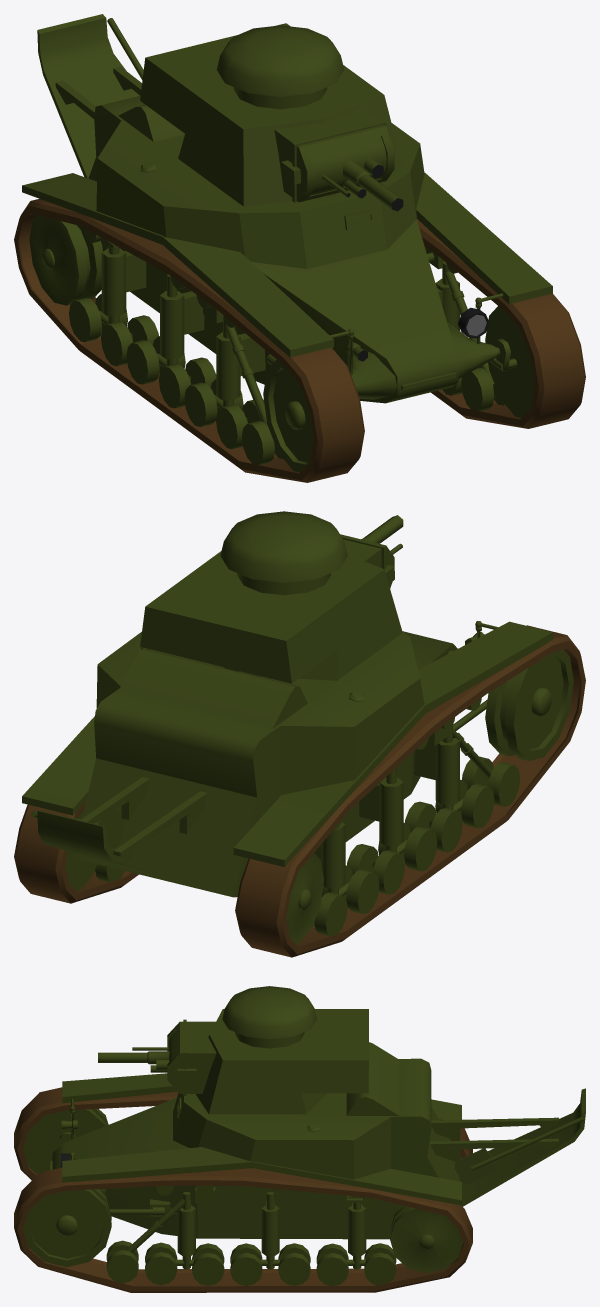
3 renders of one model, top to bottom at view 1: azimuth 30°, elevation 25°; view 2: azimuth 150°, elevation 25°; view 3: azimuth 270°, elevation 25°, orthographic. The views are drawn at different scales.
Visible parts, largest first — view 1: Body_UV.004, Tower_UV.001, RightTrack_Circle.015, LeftTrack_Circle.001, RightWheel9_Circle.000, Gun_UV.008, RightWheel1_Circle.023, LeftWheel1_Circle.002, RightWheel5_Circle.019, RightWheel7_Circle.021, RightWheel6_Circle.020, RightWheel8_Circle.022 (+4 smaller); view 2: Body_UV.004, Tower_UV.001, RightTrack_Circle.015, RightWheel1_Circle.023, LeftTrack_Circle.001, RightWheel9_Circle.000, RightWheel6_Circle.020, RightWheel4_Circle.018, RightWheel2_Circle.016, RightWheel3_Circle.017, RightWheel5_Circle.019, RightWheel7_Circle.021 (+3 smaller); view 3: Body_UV.004, Tower_UV.001, LeftTrack_Circle.001, LeftWheel1_Circle.002, LeftWheel9_Circle.010, RightTrack_Circle.015, RightWheel1_Circle.023, Gun_UV.008, LeftWheel6_Circle.007, LeftWheel5_Circle.006, LeftWheel3_Circle.004, LeftWheel7_Circle.008 (+3 smaller).
Boxes of the visible parts, box(x1,y1,x2,y2) form: Body_UV.004: box(22, 14, 552, 425); Tower_UV.001: box(140, 23, 402, 206); RightTrack_Circle.015: box(14, 199, 364, 482); LeftTrack_Circle.001: box(416, 219, 585, 428); RightWheel9_Circle.000: box(29, 215, 102, 305); Gun_UV.008: box(309, 136, 403, 211); RightWheel1_Circle.023: box(263, 359, 313, 472); LeftWheel1_Circle.002: box(485, 306, 534, 417); RightWheel5_Circle.019: box(158, 357, 216, 408); RightWheel7_Circle.021: box(101, 315, 158, 366); RightWheel6_Circle.020: box(126, 336, 185, 384); RightWheel8_Circle.022: box(69, 294, 127, 342); Body_UV.004: box(22, 621, 552, 897); Tower_UV.001: box(140, 511, 402, 683); RightTrack_Circle.015: box(235, 625, 585, 957); RightWheel1_Circle.023: box(485, 649, 573, 760); LeftTrack_Circle.001: box(14, 801, 138, 903); RightWheel9_Circle.000: box(286, 853, 323, 943); RightWheel6_Circle.020: box(347, 844, 404, 894); RightWheel4_Circle.018: box(404, 801, 462, 852); RightWheel2_Circle.016: box(462, 756, 520, 806); RightWheel3_Circle.017: box(435, 779, 494, 828); RightWheel5_Circle.019: box(378, 823, 437, 871); RightWheel7_Circle.021: box(322, 865, 379, 913); Body_UV.004: box(50, 1042, 585, 1269); Tower_UV.001: box(167, 986, 368, 1114); LeftTrack_Circle.001: box(14, 1167, 472, 1292); LeftWheel1_Circle.002: box(23, 1189, 111, 1267); LeftWheel9_Circle.010: box(390, 1206, 462, 1273); RightTrack_Circle.015: box(14, 1087, 472, 1180); RightWheel1_Circle.023: box(23, 1109, 108, 1174); Gun_UV.008: box(98, 1031, 175, 1072); LeftWheel6_Circle.007: box(278, 1243, 310, 1285); LeftWheel5_Circle.006: box(230, 1243, 262, 1285); LeftWheel3_Circle.004: box(145, 1242, 177, 1285); LeftWheel7_Circle.008: box(316, 1243, 348, 1285).
Size of the model in its own units: 175 by 208 by 435.
